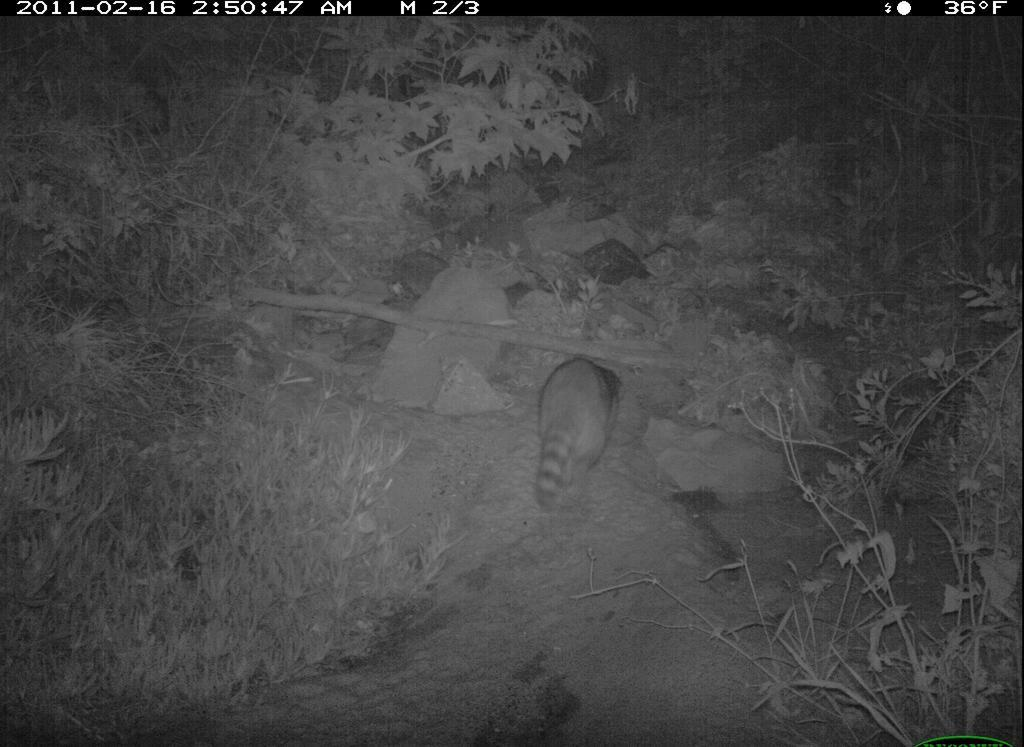raccoon: (513, 349, 632, 542)
